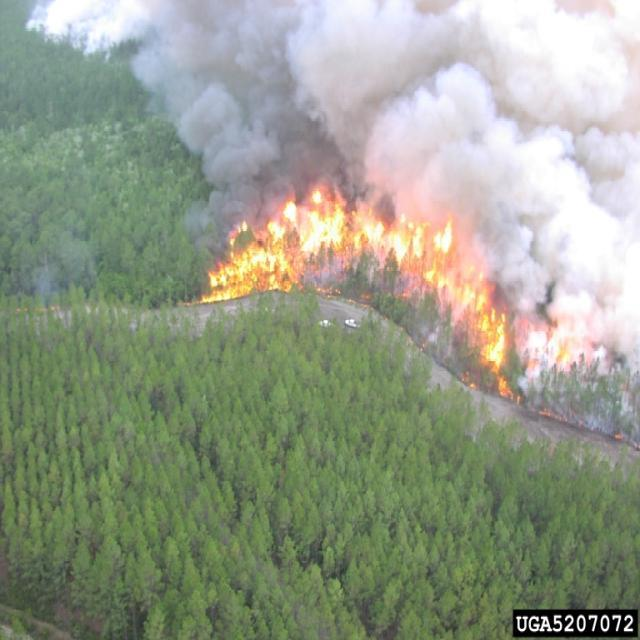Fire: (202, 190, 506, 370)
Smoke: (24, 0, 640, 376)
